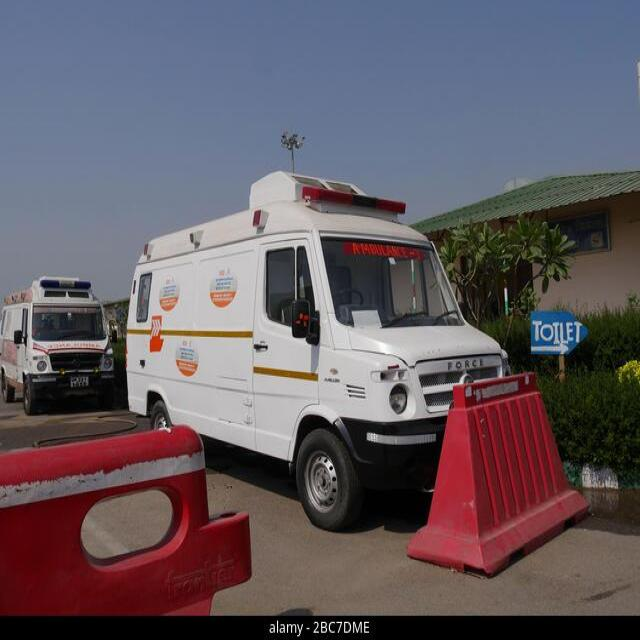emergency: (128, 171, 508, 528), (0, 277, 112, 413)
